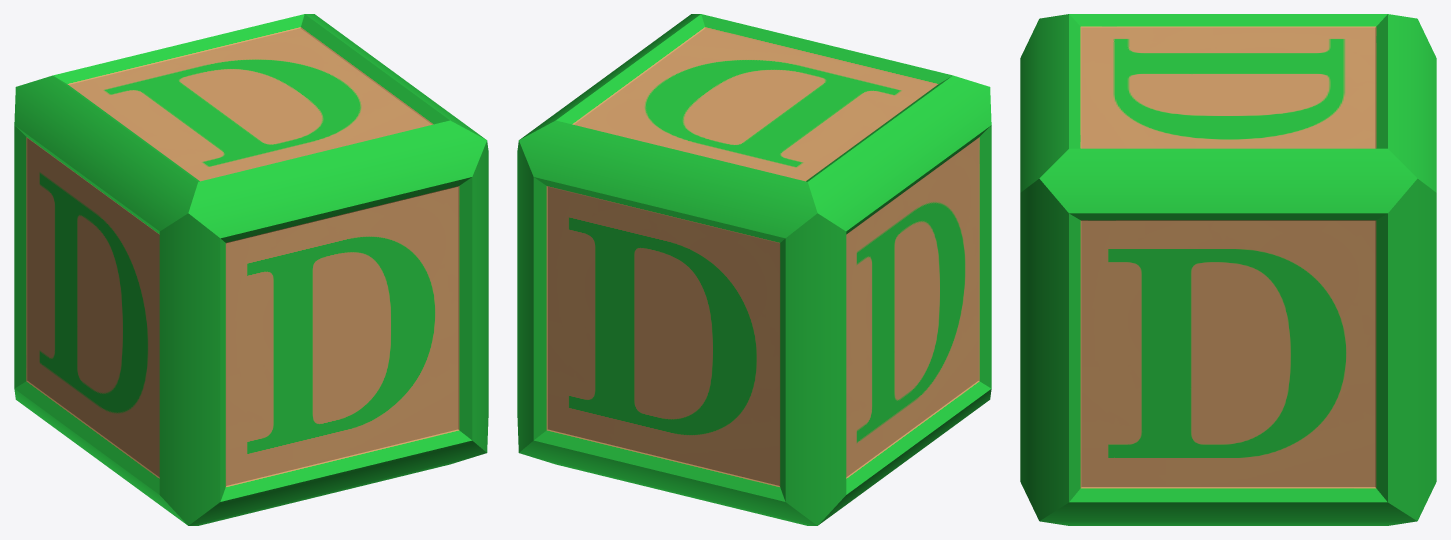
3 views of the same model, side by side, from view 1: azimuth 30°, elevation 25°; view 2: azimuth 150°, elevation 25°; view 3: azimuth 270°, elevation 25° (orthographic). The views are drawn at different scales.
Parts seen in each view (by area): view 1: pCube1; view 2: pCube1; view 3: pCube1.
Part boxes in pixels (bbox=[...]): pCube1: bbox=[14, 14, 488, 525]; pCube1: bbox=[517, 14, 991, 525]; pCube1: bbox=[1020, 14, 1436, 525].
Size of the model in its own units: 0.4114 by 0.4114 by 0.4114.
Materials: 1 (1 with a texture image).
